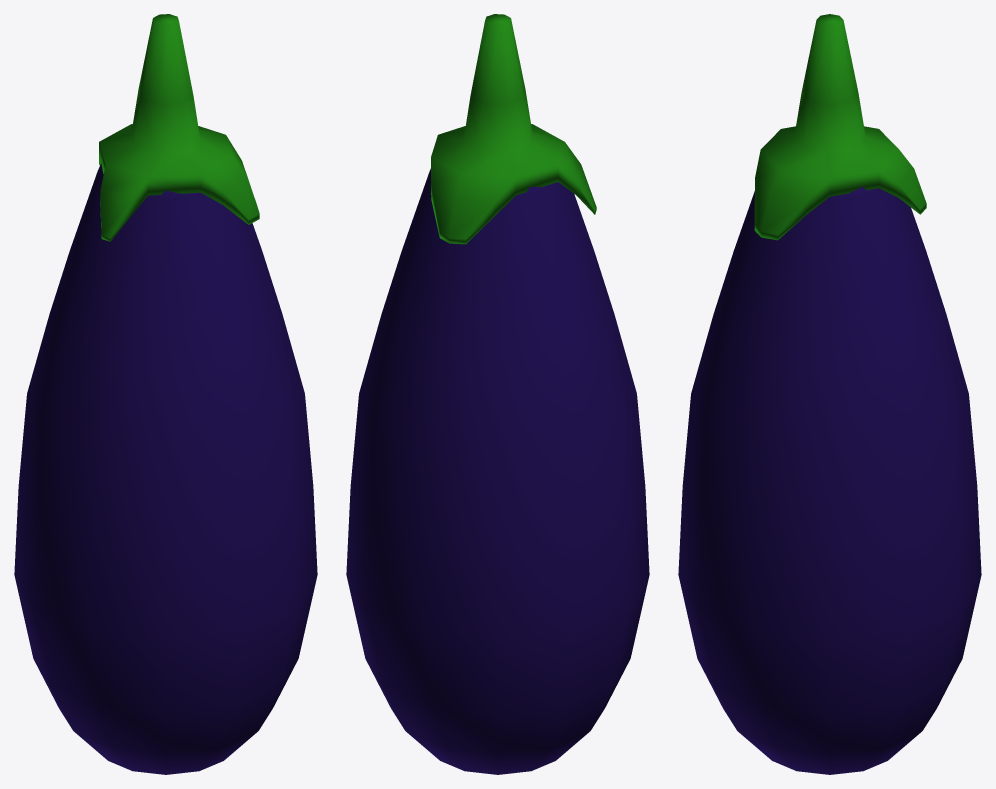
Rendered from EggPlant.fbx.
The picture shows the model from 3 angles, left to right: view 1: azimuth 30°, elevation 25°; view 2: azimuth 150°, elevation 25°; view 3: azimuth 270°, elevation 25°; orthographic projection.
Visible parts, largest first — view 1: EggPlant; view 2: EggPlant; view 3: EggPlant.
Boxes of the visible parts, bbox=[...] form: EggPlant: bbox=[14, 14, 317, 774]; EggPlant: bbox=[346, 14, 649, 774]; EggPlant: bbox=[678, 14, 981, 774].
Size of the model in its own units: 187 by 495 by 187.
